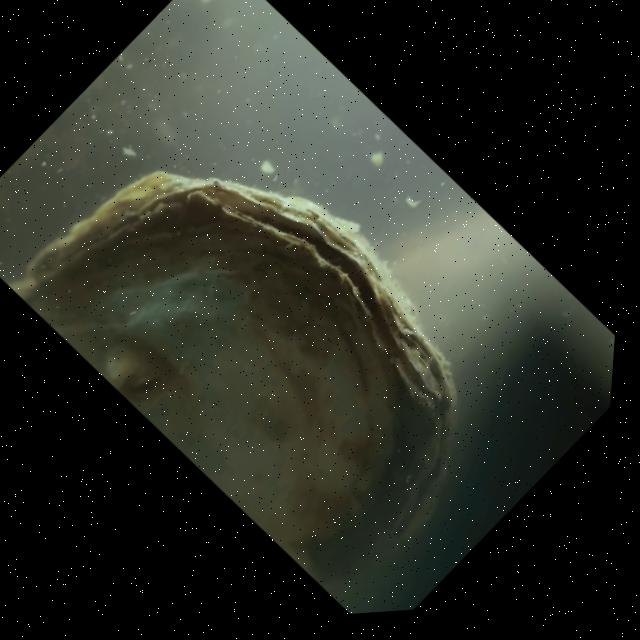Oyster-Closed: (16, 164, 462, 614)
